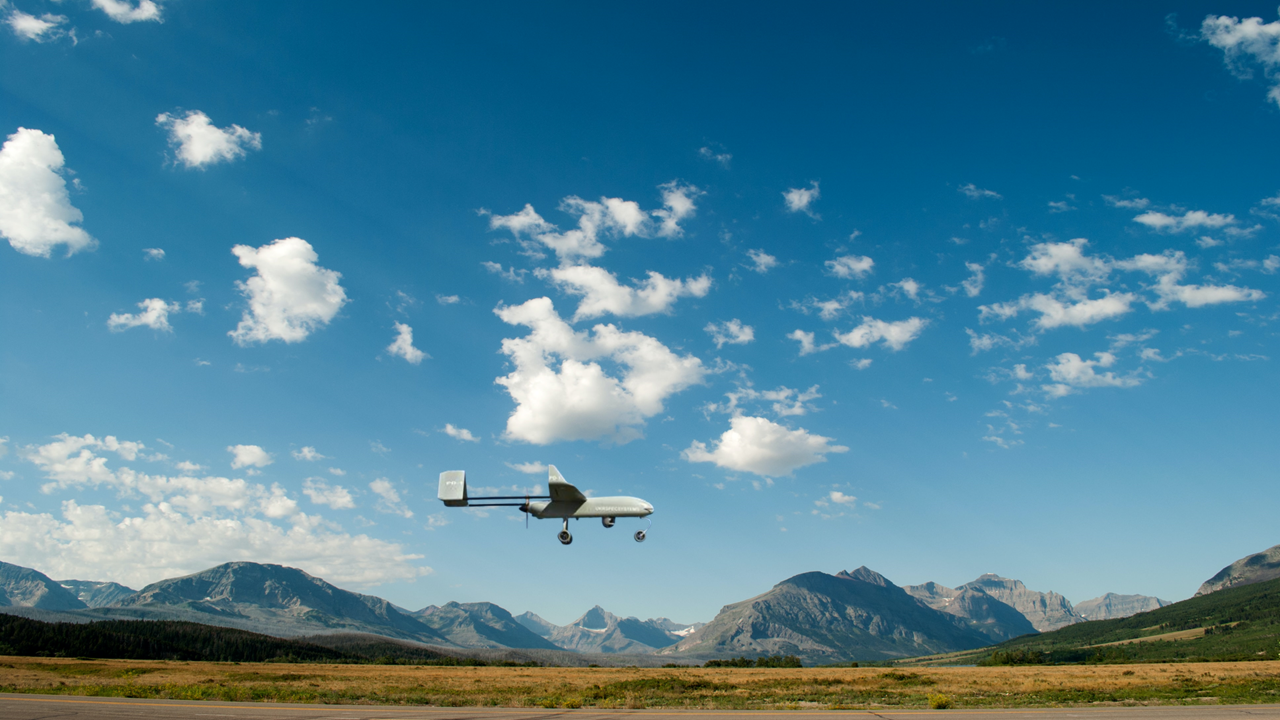military drone: (437, 464, 654, 545)
